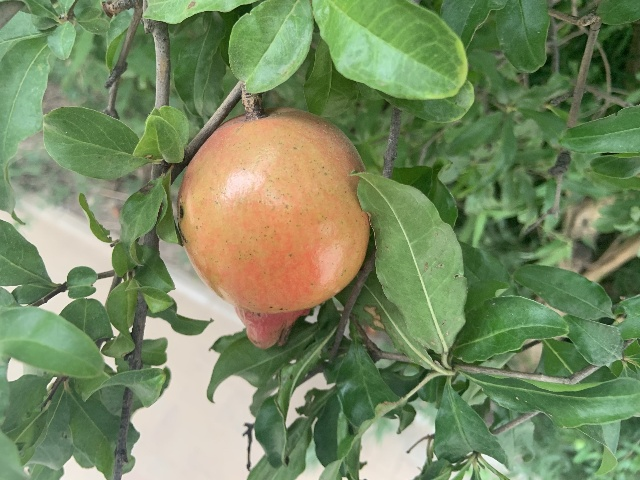ripe: (177, 110, 370, 352)
